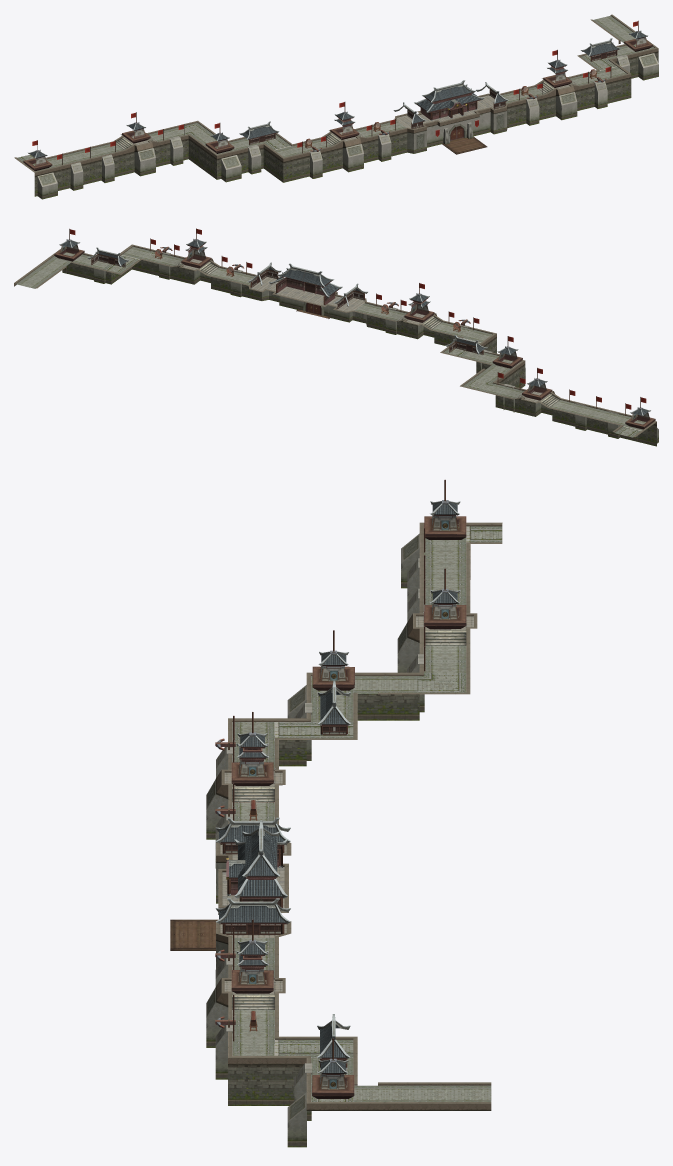
Rendered from xiangyang01.fbx.
3 views of the same model, one above another, from view 1: azimuth 30°, elevation 25°; view 2: azimuth 150°, elevation 25°; view 3: azimuth 270°, elevation 25° (orthographic). The views are drawn at different scales.
Parts seen in each view (by area): view 1: xiangyang01; view 2: xiangyang01; view 3: xiangyang01.
Part boxes in pixels (<box>): xiangyang01: <box>14,14,658,199</box>; xiangyang01: <box>14,228,658,446</box>; xiangyang01: <box>170,479,502,1147</box>.
Size of the model in its own units: 98.49 by 9.59 by 23.78.
